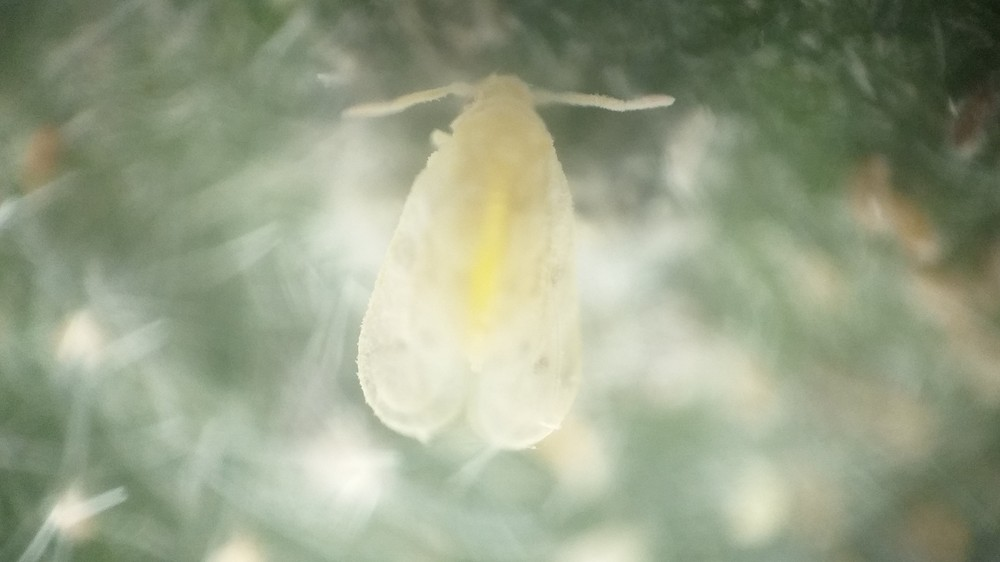Mosca Blanca: (301, 67, 689, 453)
